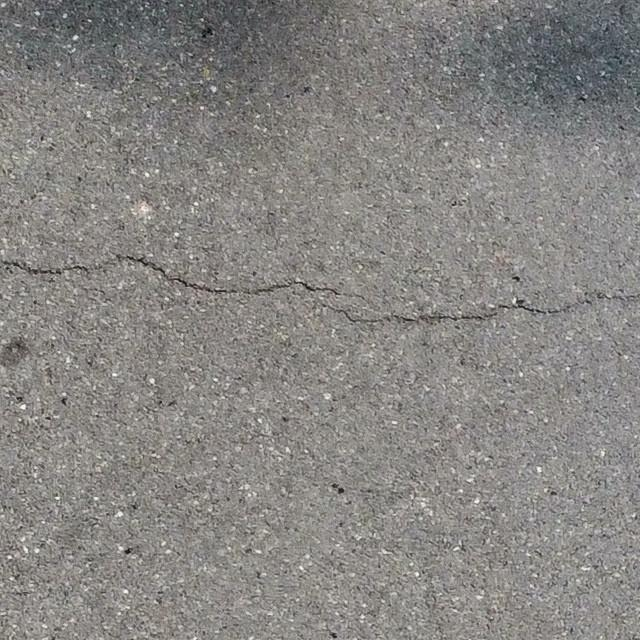TransverseCrack: (1, 254, 640, 327)
